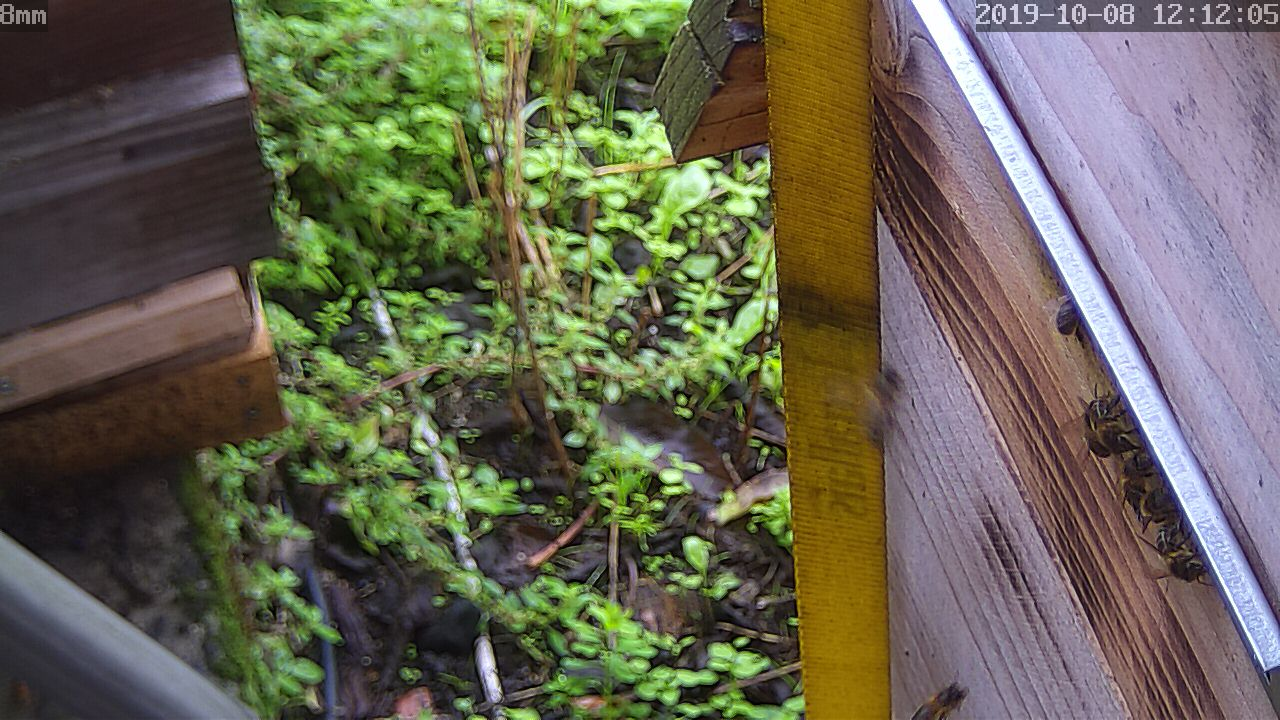bee: (1072, 392, 1140, 453), (1114, 454, 1173, 521), (1040, 289, 1099, 350), (1143, 528, 1206, 583), (904, 675, 969, 720)
